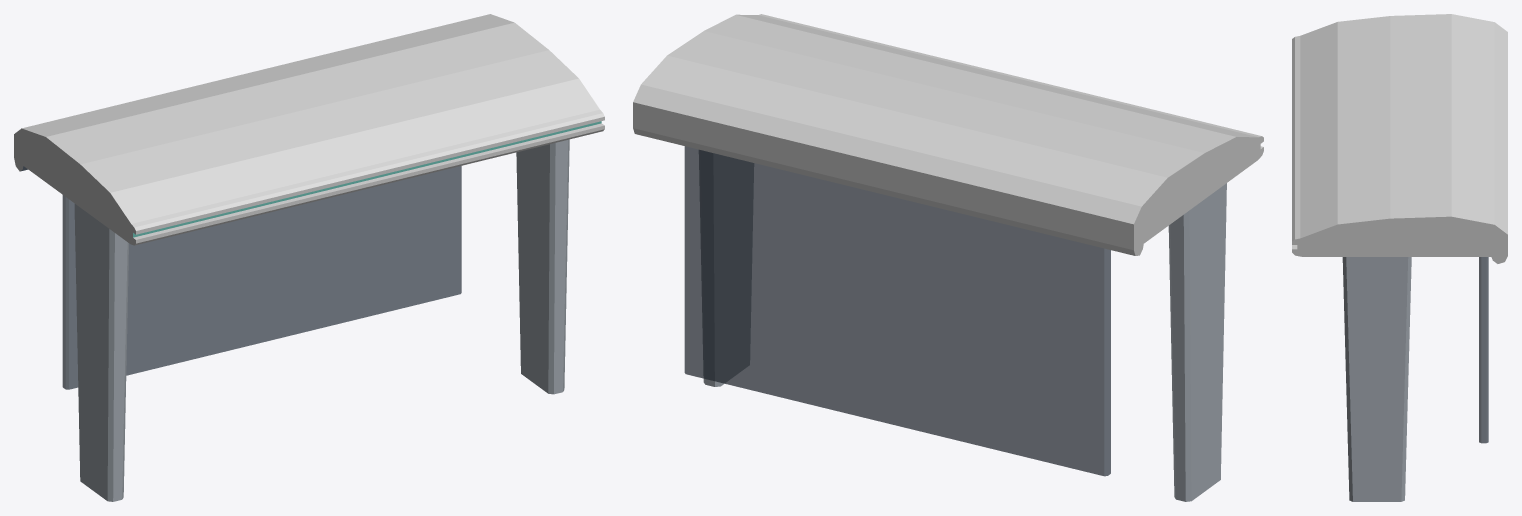
File: transit-shelter-canopy-16d66c.glb
3 views of the same model, side by side, from view 1: azimuth 30°, elevation 25°; view 2: azimuth 150°, elevation 25°; view 3: azimuth 270°, elevation 25° (orthographic). The views are drawn at different scales.
Parts seen in each view (by area): view 1: shell, panel-mesh; view 2: shell, panel-mesh; view 3: shell, panel-mesh.
Part boxes in pixels (x1,y1,x2,y2): shell: (14,14,604,501); panel-mesh: (62,166,461,389); shell: (633,14,1263,501); panel-mesh: (684,146,1110,476); shell: (1292,14,1507,501); panel-mesh: (1479,257,1488,443).
Bounding box in the file's own units: 4 × 2.65 × 1.8.
